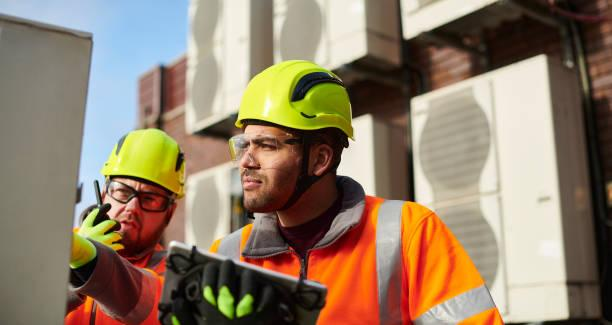goggle: (218, 129, 300, 164), (101, 176, 175, 213)
helmet: (228, 54, 363, 151), (93, 123, 202, 201)
vest: (210, 191, 500, 325), (73, 235, 180, 325)
